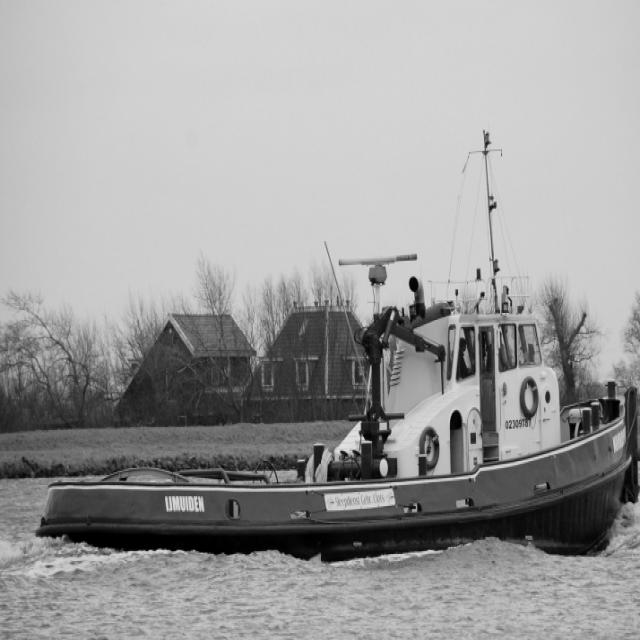tugboat: (32, 127, 640, 583)
